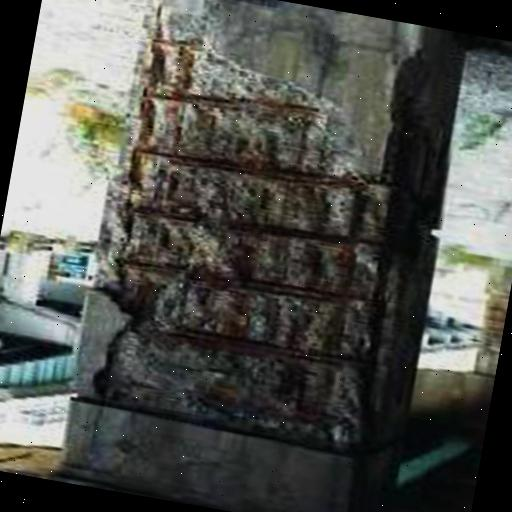spalling: (74, 8, 473, 452)
